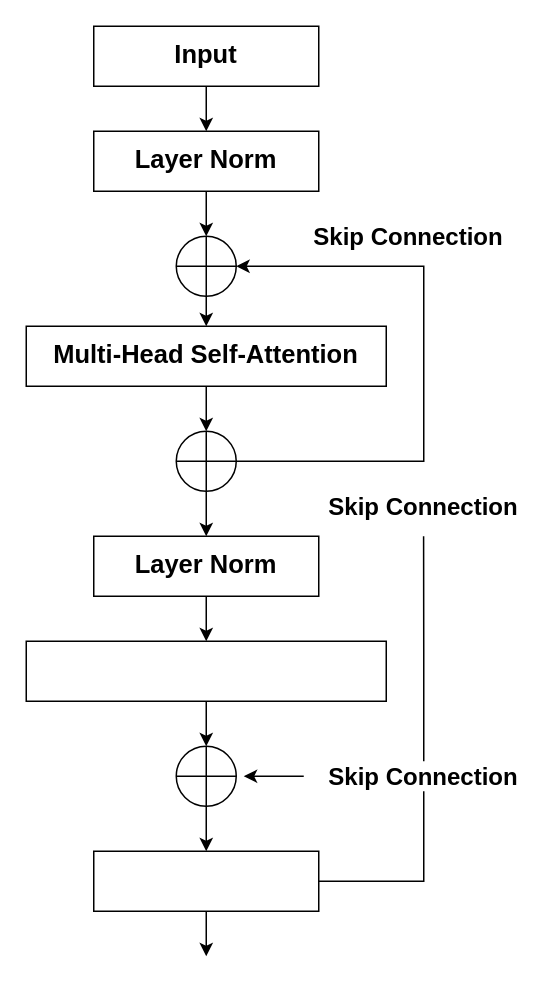
Image size: 555x995. Some labels were removed from this diagram. The shapes that lost their labels are listed below. From the top down, each one's box as (x1, y1, x2, y2) in pixels, then its label:
(25, 640, 386, 701): Feed Forward Network
(92, 850, 319, 911): Output
